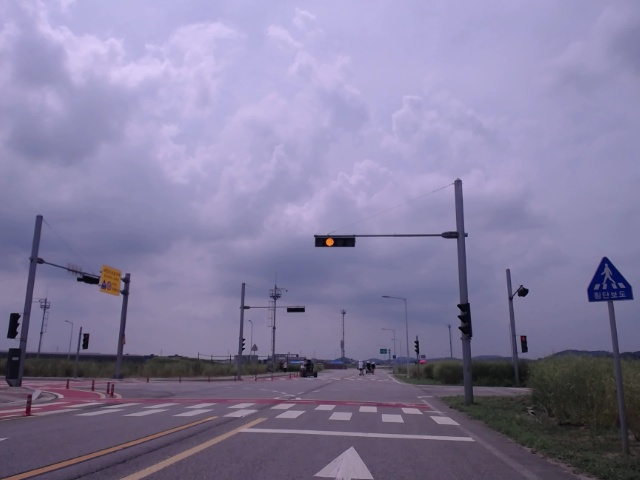orange_4: (313, 234, 355, 247)
